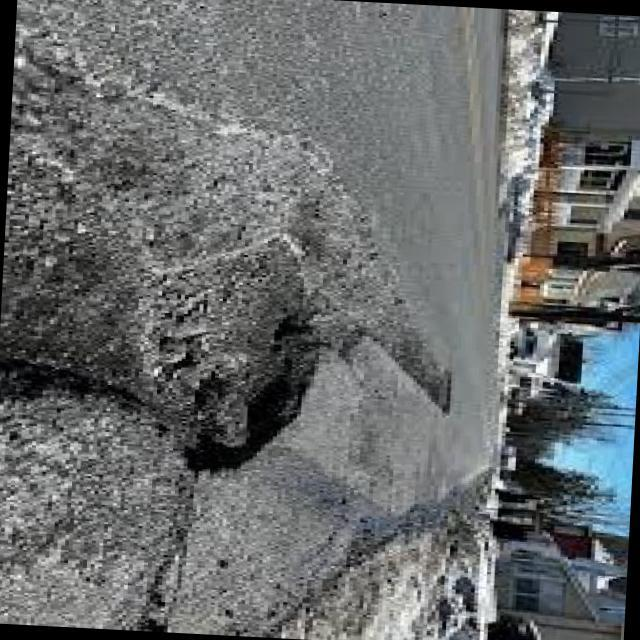pothole: (0, 136, 363, 504)
